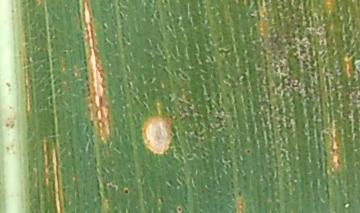tarspot: (173, 204, 188, 213), (122, 187, 133, 197)
